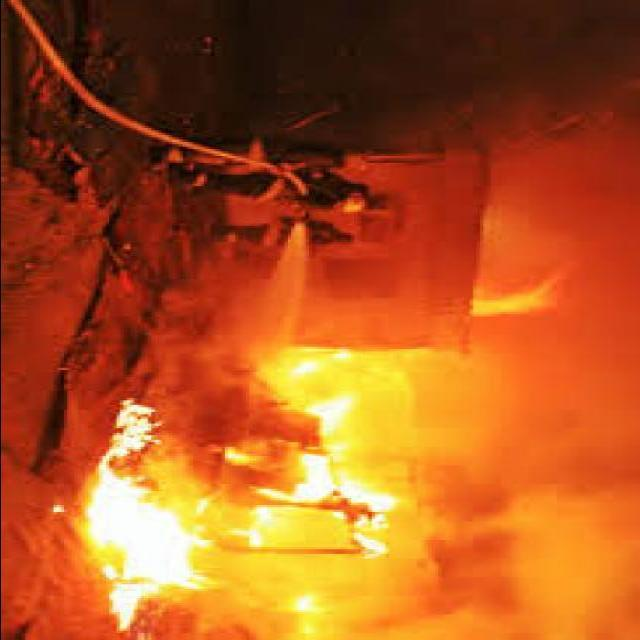Fire: (78, 384, 404, 640)
